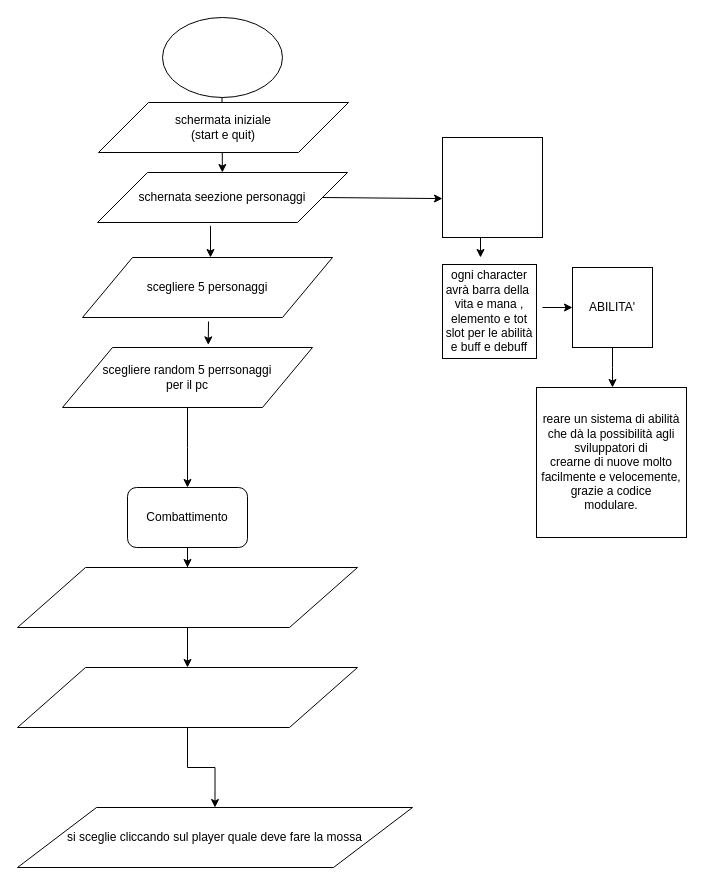
Image size: 704x885. Some labels were removed from this diagram. Each missing label, with the box of its shape:
inizia il player e a turni uno alla volta attacano: (16, 666, 358, 728)
spawn personaggi sul campo di battaglia: (16, 566, 358, 628)
START: (162, 16, 282, 98)
tipi di character: Guerriero Mago Arciere Lottatore Cyborg: (442, 136, 542, 238)
